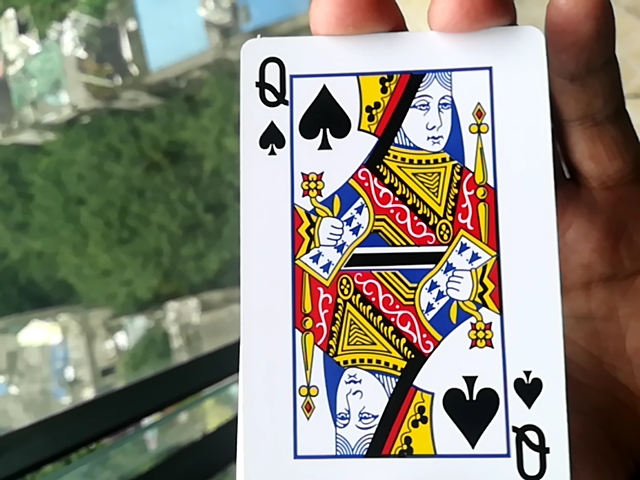ht q: (228, 34, 568, 480)
